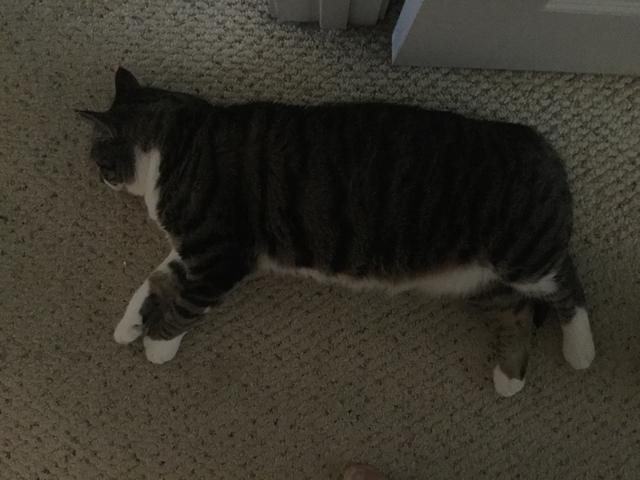playdoh: (70, 66, 595, 399)
